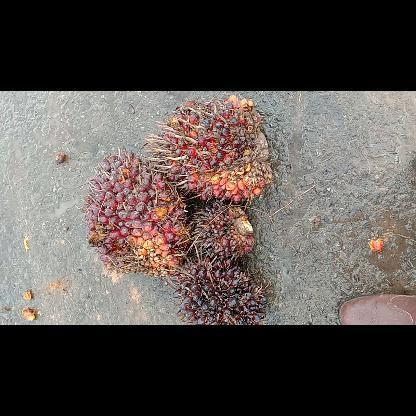TBS abnormal: (169, 242, 273, 324), (185, 198, 257, 264)
TBS masak: (140, 93, 276, 205), (78, 144, 186, 280)
